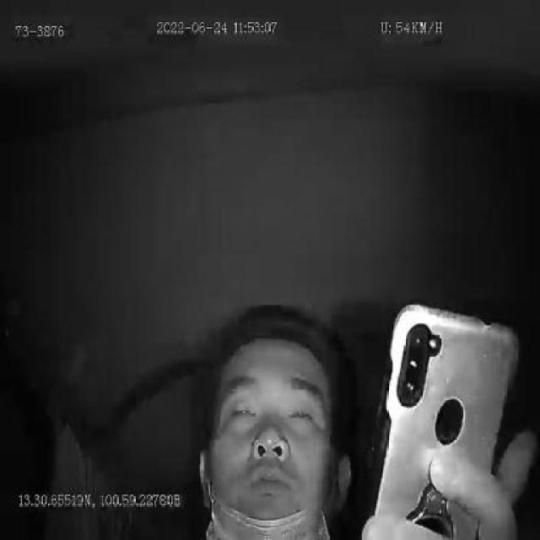phone: (373, 302, 520, 540)
